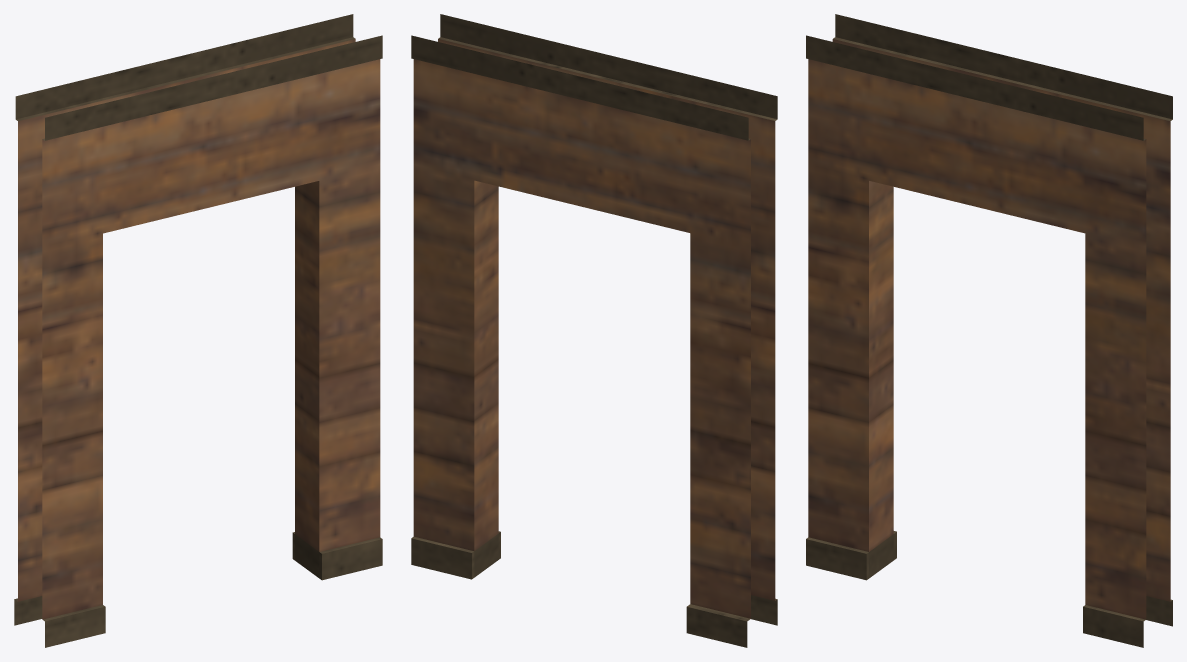
File: MS_Wallpiece_Door.fbx
The picture shows the model from 3 angles, left to right: view 1: azimuth 30°, elevation 25°; view 2: azimuth 150°, elevation 25°; view 3: azimuth 330°, elevation 25°; orthographic projection.
Visible parts, largest first — view 1: Cube; view 2: Cube; view 3: Cube.
Part boxes in pixels (x1,y1,x2,y2): Cube: (14,14,382,647); Cube: (411,14,777,647); Cube: (806,14,1172,647).
Bounding box in the file's own units: 400 × 600 × 62.5.
